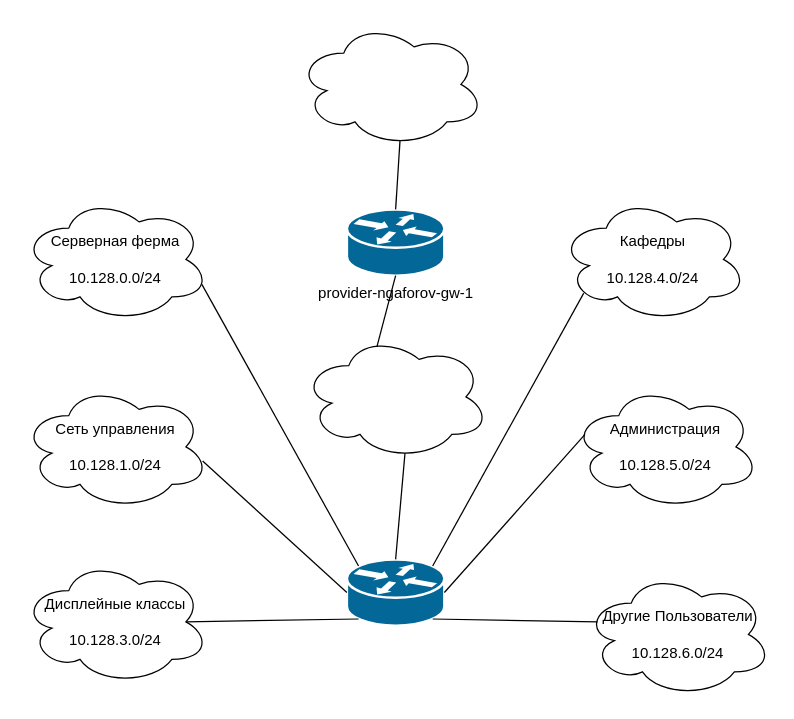
Some shapes in this 794 by 719 pixel diagram are drawn without their labels. Here are the shapes that lost their labels. From the top down, the centre of each, then its label:
At point (390, 84): "Интернет 192.0.2.0/24".
At point (395, 396): "Провайдер 198.51.100.0/24".
At point (395, 592): "msk-donskaya-ngaforov-gw-1".
